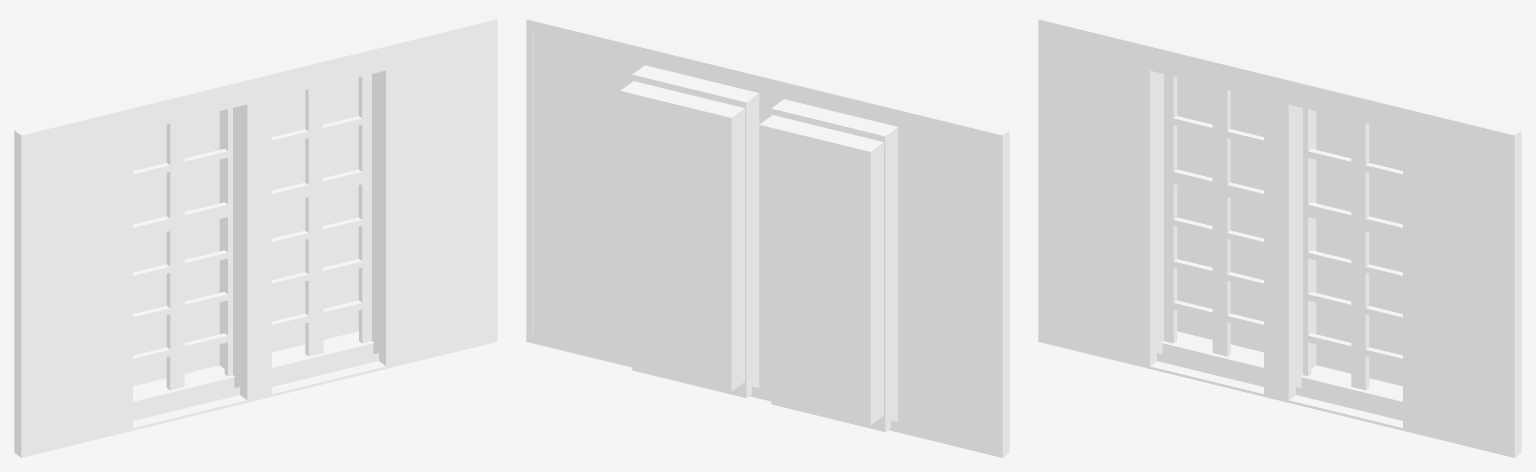
The model's file is door.glb.
The picture shows the model from 3 angles, left to right: view 1: azimuth 30°, elevation 25°; view 2: azimuth 150°, elevation 25°; view 3: azimuth 330°, elevation 25°; orthographic projection.
Parts seen in each view (by area): view 1: door; view 2: door; view 3: door.
Part boxes in pixels (<box>): door: <box>14,14,497,457</box>; door: <box>526,14,1009,457</box>; door: <box>1038,14,1521,457</box>.
Size of the model in its own units: 4.23 by 2.74 by 0.4038.
Materials: 1 (1 with a texture image).
